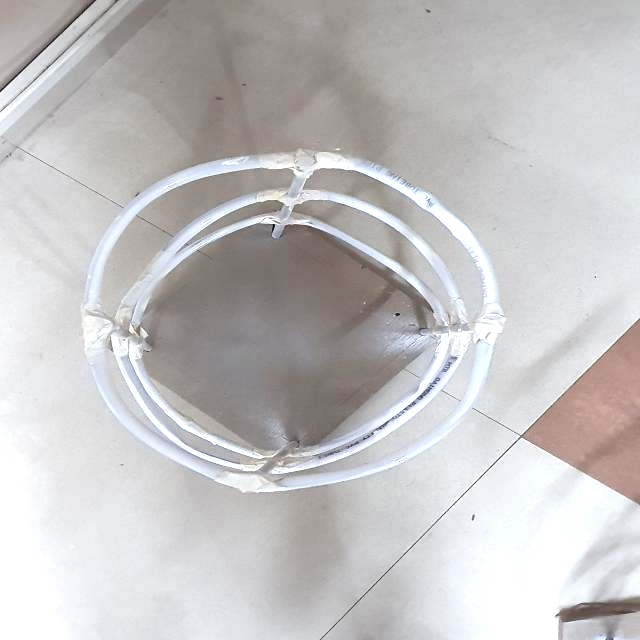silo: (74, 147, 496, 488)
